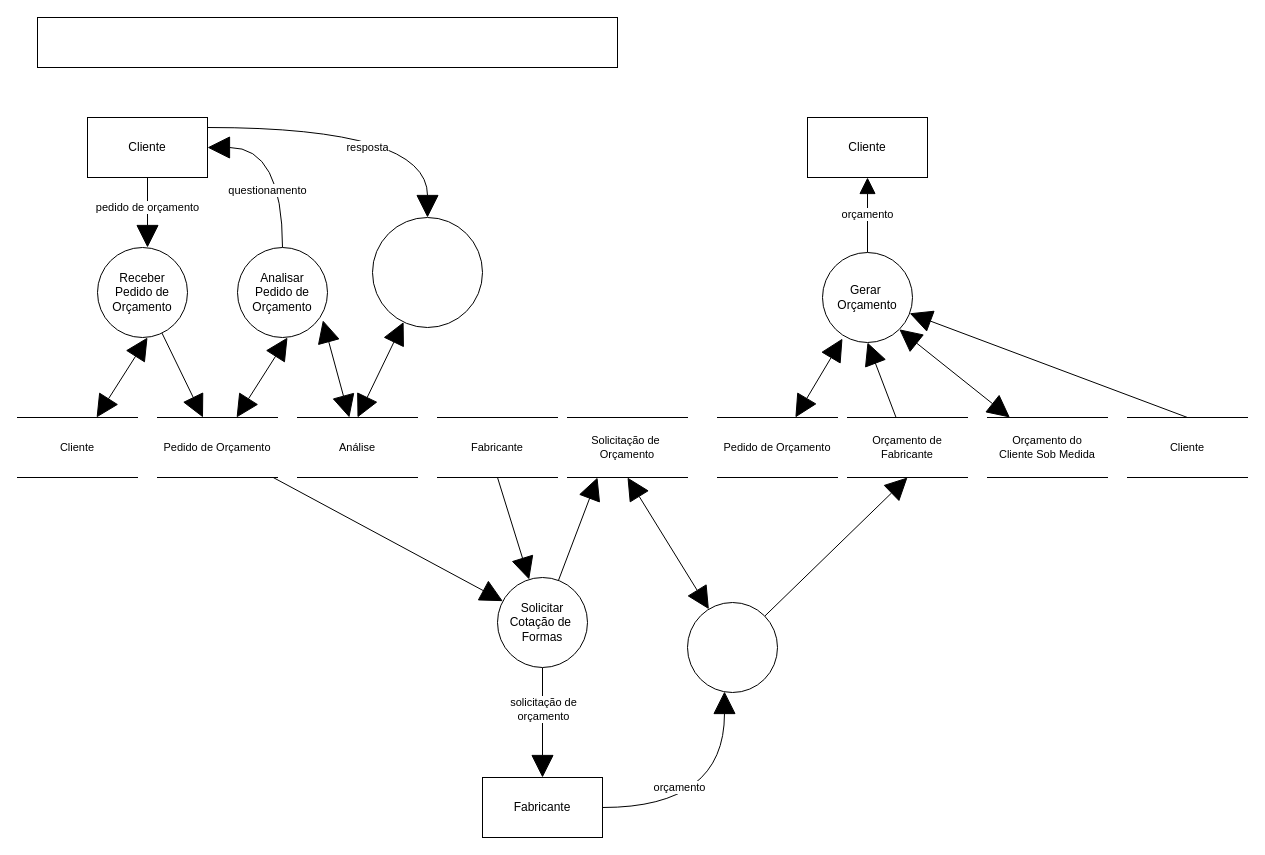
Some shapes in this 1265 by 855 pixel diagram are drawn without their labels. The shapes that lost their labels are listed below. From the top down, each one's box as (x1, y1, x2, y2) in pixels, then its label:
(36, 16, 618, 68): DFD - Tratar orçamento sob medida
(372, 216, 482, 328): Receber Respostas aos Questionamento
(686, 602, 778, 692): Receber Orçamento
